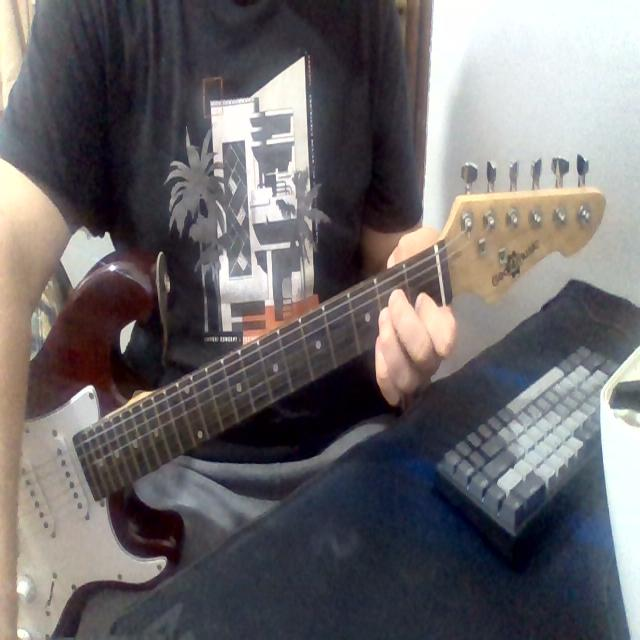Am: (359, 290, 476, 415)
